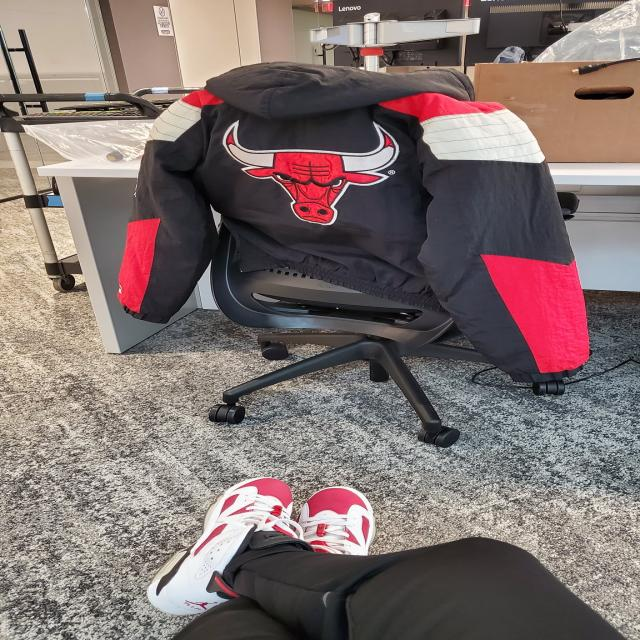shoe: (131, 468, 306, 630), (298, 478, 394, 567)
